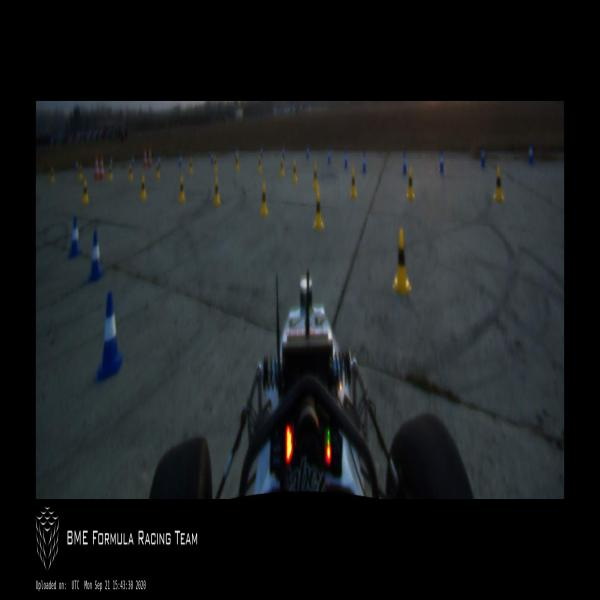blue_cone: (94, 290, 123, 384), (86, 228, 103, 285), (67, 215, 83, 260), (528, 142, 534, 165), (402, 151, 407, 176), (362, 149, 367, 173), (439, 152, 444, 175), (481, 146, 486, 168), (344, 149, 348, 168), (109, 155, 113, 167), (306, 144, 309, 159), (282, 143, 285, 158), (75, 161, 78, 174), (211, 151, 214, 164), (328, 146, 330, 164), (260, 145, 263, 157), (235, 148, 238, 159), (158, 153, 160, 169), (179, 154, 181, 168), (132, 155, 134, 168)
large_orange_cone: (94, 152, 100, 180), (100, 152, 105, 179), (143, 146, 147, 168), (148, 146, 152, 168)
yellow_cone: (392, 229, 412, 297), (312, 189, 325, 232), (494, 165, 505, 203), (260, 183, 268, 216), (407, 167, 415, 200), (178, 174, 186, 203), (213, 176, 221, 205), (350, 168, 357, 199), (82, 180, 89, 204), (312, 164, 318, 190), (140, 174, 146, 200), (292, 160, 297, 182), (128, 163, 133, 181), (280, 157, 284, 178), (258, 154, 262, 174), (50, 164, 54, 184), (189, 156, 193, 174), (156, 161, 160, 179), (78, 164, 82, 181), (214, 156, 218, 172), (109, 164, 112, 181), (236, 155, 239, 171)
